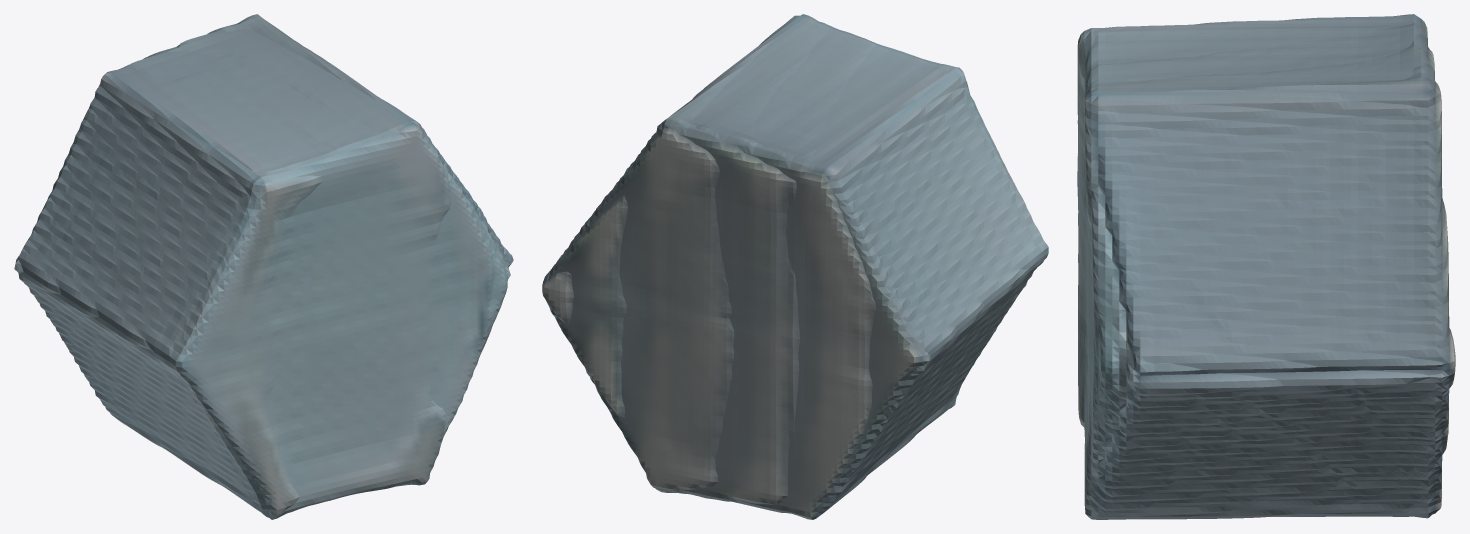
3 renders of one model, left to right at view 1: azimuth 30°, elevation 25°; view 2: azimuth 150°, elevation 25°; view 3: azimuth 270°, elevation 25°, orthographic. The views are drawn at different scales.
Visible parts, largest first — view 1: world; view 2: world; view 3: world.
Part boxes in pixels (left/top/right/bottom): world: left=14, top=14, right=513, bottom=519; world: left=542, top=14, right=1048, bottom=519; world: left=1077, top=14, right=1455, bottom=519.
Size of the model in its own units: 0.9946 by 0.9269 by 0.738.
